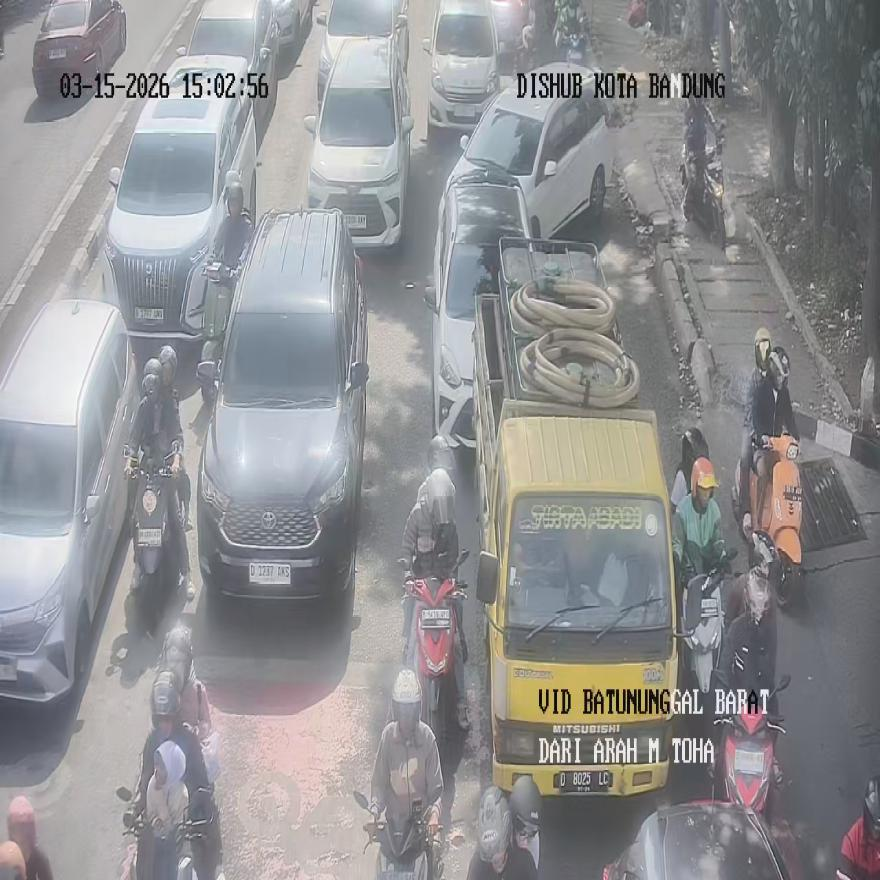Motor: (196, 208, 370, 603), (102, 59, 258, 348), (102, 64, 258, 343), (261, 511, 276, 529)
Truk: (403, 551, 468, 754), (125, 454, 184, 631), (682, 548, 738, 716), (749, 434, 803, 607), (715, 695, 785, 820), (354, 792, 443, 879), (680, 124, 726, 249), (121, 811, 199, 879), (200, 261, 238, 366), (670, 427, 710, 513), (554, 7, 587, 66), (515, 24, 536, 73), (566, 35, 585, 66)
